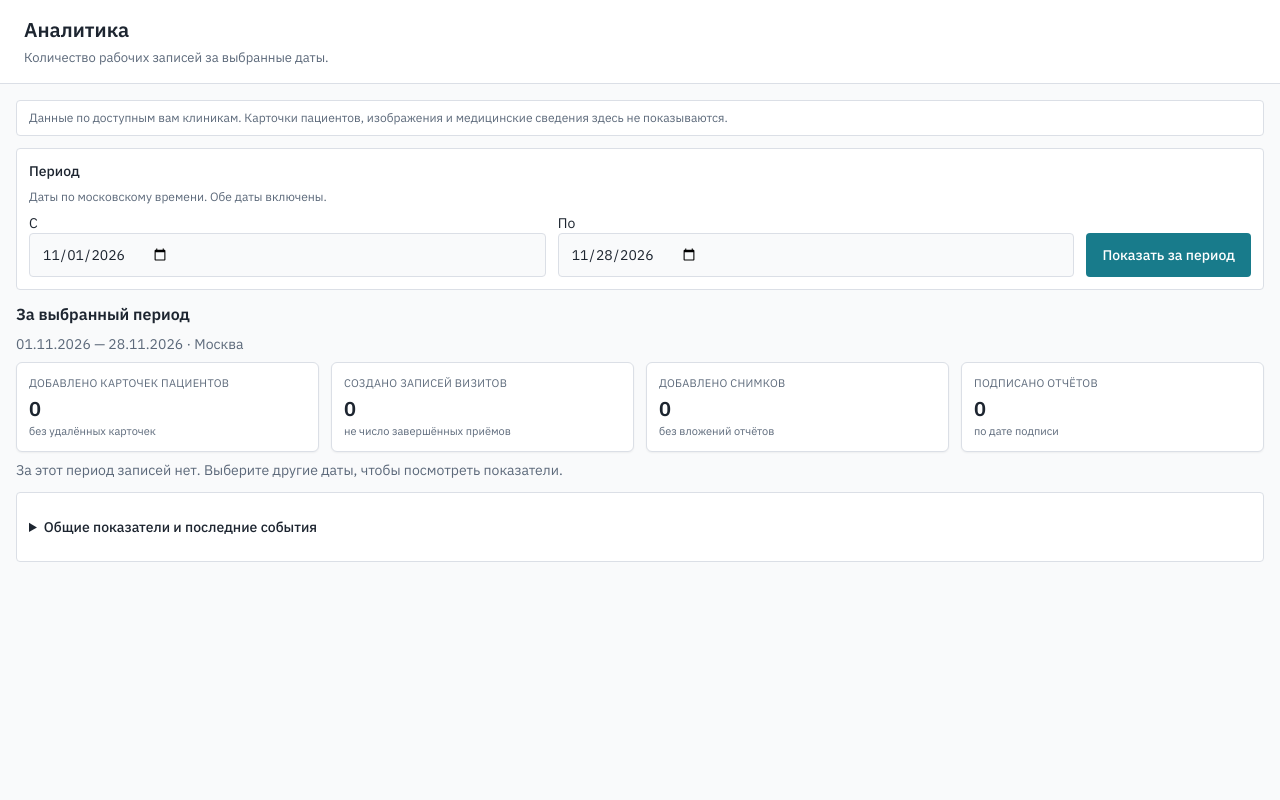
Test: explains an empty period and refuses an old backend without period support
This screenshot has width=1280, height=800.
Expected: the text "За этот период записей нет" is shown, [16, 461, 563, 479]
Click the button "Показать за период" at (1169, 255), box [1086, 233, 1251, 277]
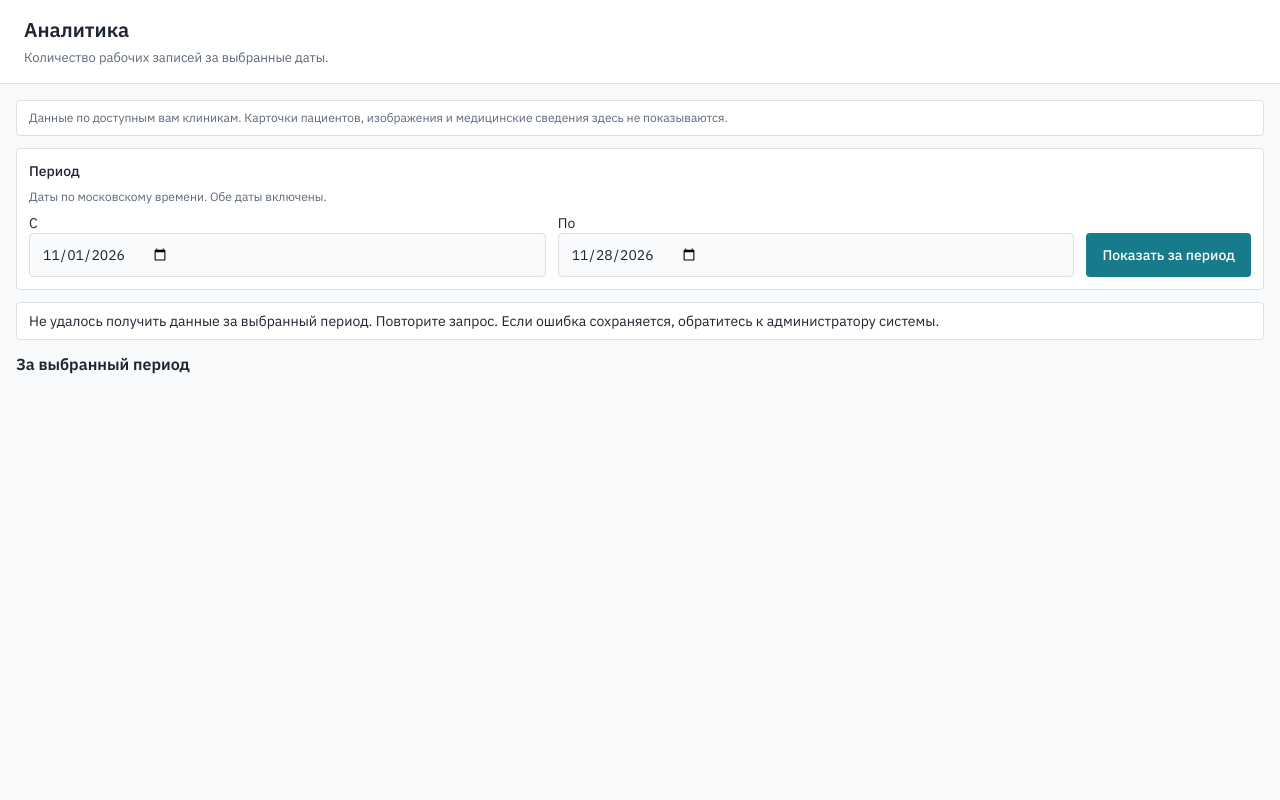
Expected: the message shows "Не удалось получить данные за выбранный период", [29, 312, 939, 330]
Expected: the text "За этот период записей нет" is gone
